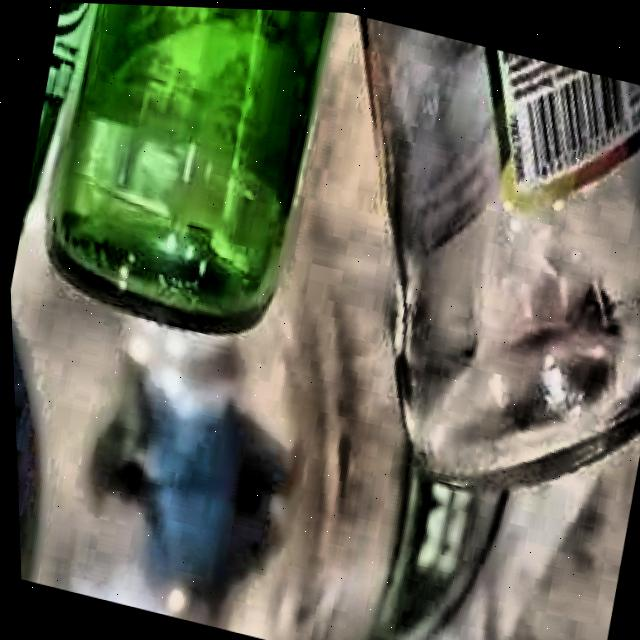glass: (362, 12, 640, 481), (19, 2, 335, 332)
